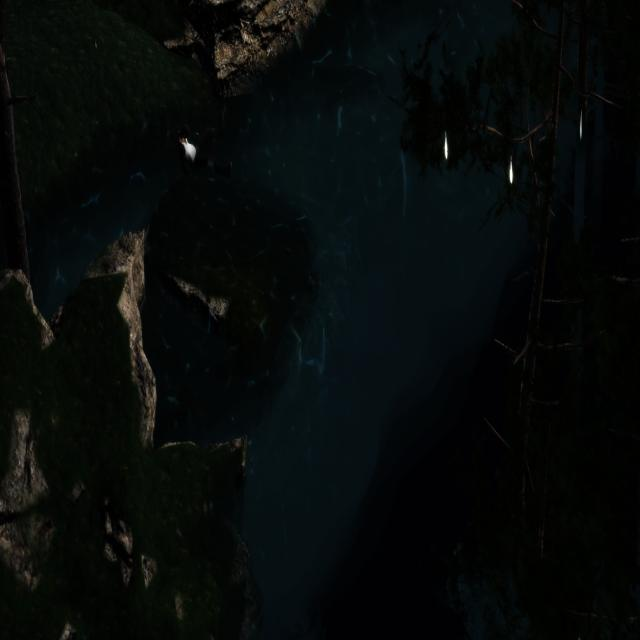Human: (174, 101, 236, 193)
